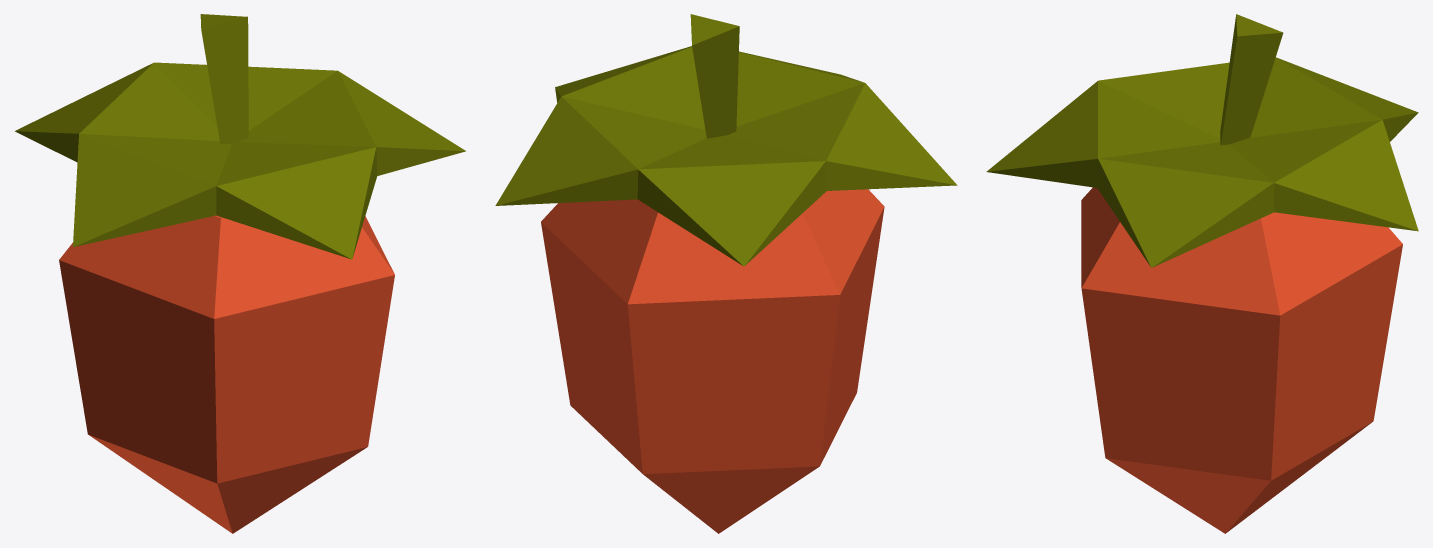
File: Strawberry.glb
3 renders of one model, left to right at view 1: azimuth 30°, elevation 25°; view 2: azimuth 150°, elevation 25°; view 3: azimuth 270°, elevation 25°, orthographic. The views are drawn at different scales.
Parts seen in each view (by area): view 1: Strawberry; view 2: Strawberry; view 3: Strawberry.
Boxes of the visible parts, x1,y1,x2,y2 form: Strawberry: (15, 14, 465, 533); Strawberry: (495, 14, 957, 533); Strawberry: (986, 14, 1418, 533).
Size of the model in its own units: 0.0494 by 0.0608 by 0.047.
